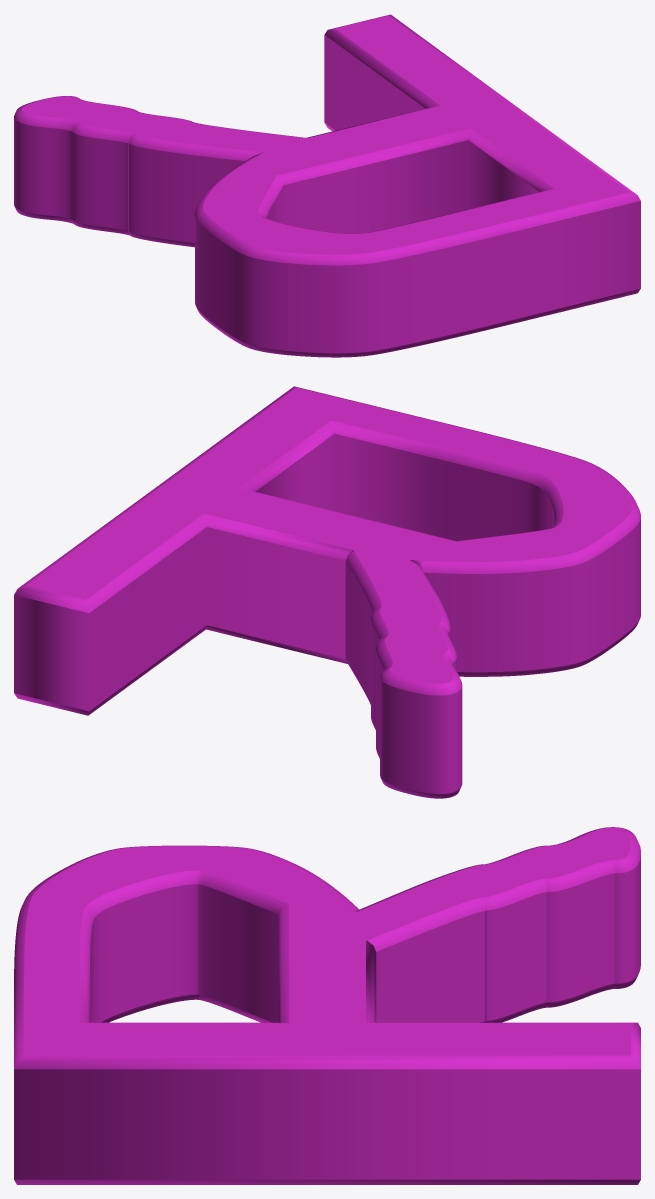
File: Blocky_LetterR.fbx
3 renders of one model, top to bottom at view 1: azimuth 30°, elevation 25°; view 2: azimuth 150°, elevation 25°; view 3: azimuth 270°, elevation 25°, orthographic. The views are drawn at different scales.
Visible parts, largest first — view 1: BlockyLetter_R; view 2: BlockyLetter_R; view 3: BlockyLetter_R.
Boxes of the visible parts, x1,y1,x2,y2 form: BlockyLetter_R: (14,14,640,357); BlockyLetter_R: (14,386,640,798); BlockyLetter_R: (14,827,640,1184).
Bounding box in the file's own units: 0.5526 × 0.14 × 0.618.
